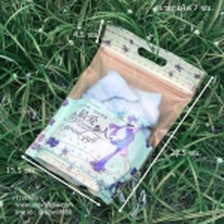snack: (16, 14, 213, 209)
